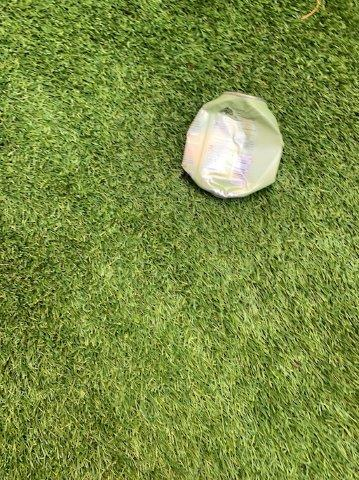kaleng: (182, 92, 282, 199)
